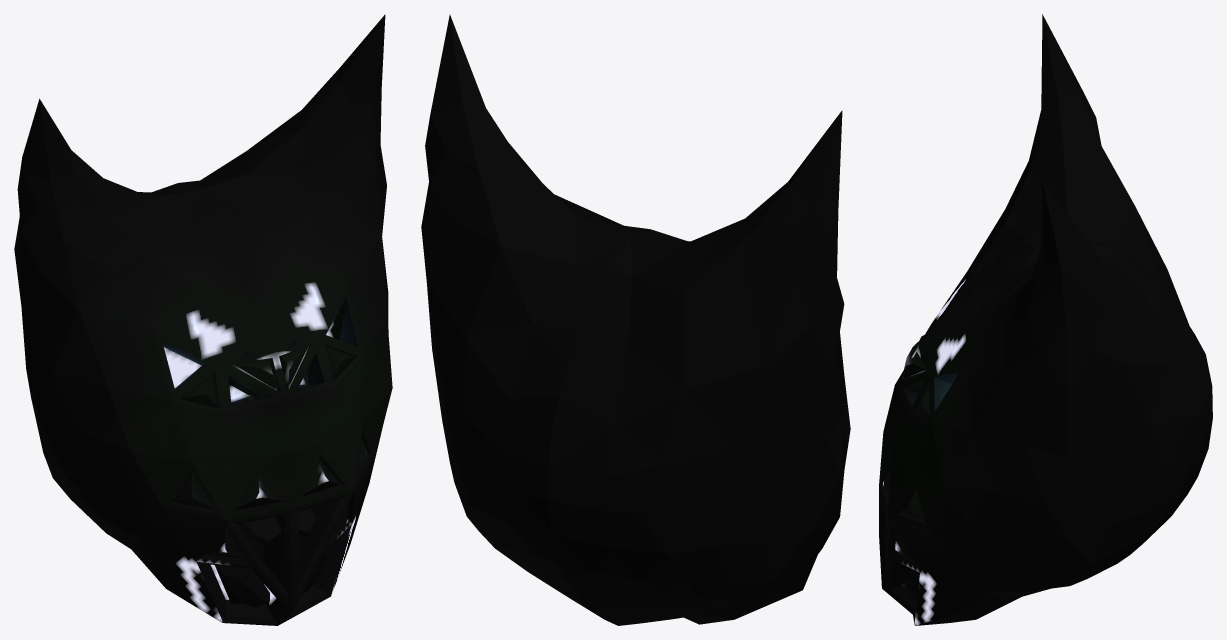
File: head.glb
3 views of the same model, side by side, from view 1: azimuth 30°, elevation 25°; view 2: azimuth 150°, elevation 25°; view 3: azimuth 270°, elevation 25° (orthographic). The views are drawn at different scales.
Parts seen in each view (by area): view 1: Icosphere; view 2: Icosphere; view 3: Icosphere.
Part boxes in pixels (x1,y1,x2,y2): Icosphere: (14, 14, 392, 625); Icosphere: (421, 14, 850, 625); Icosphere: (879, 14, 1212, 625).
Bounding box in the file's own units: 1.65 × 2.33 × 1.34.
1 material, 1 textured.
